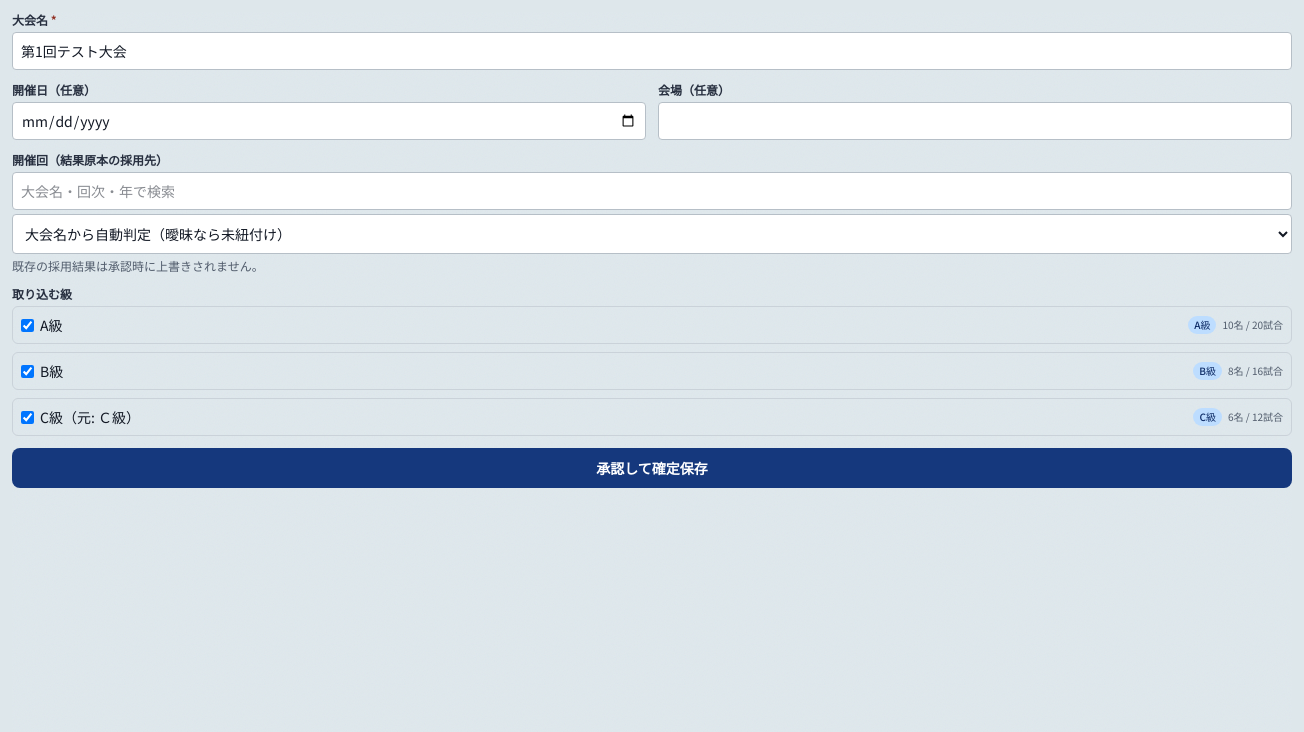
Scenario: ApproveResultDraftForm — 級選択 › 全級を外すと submit ボタンが disabled になり、強制 submit してもエラーになる
Click the checkbox labelled "A級": (28,325) [21,318,34,332]
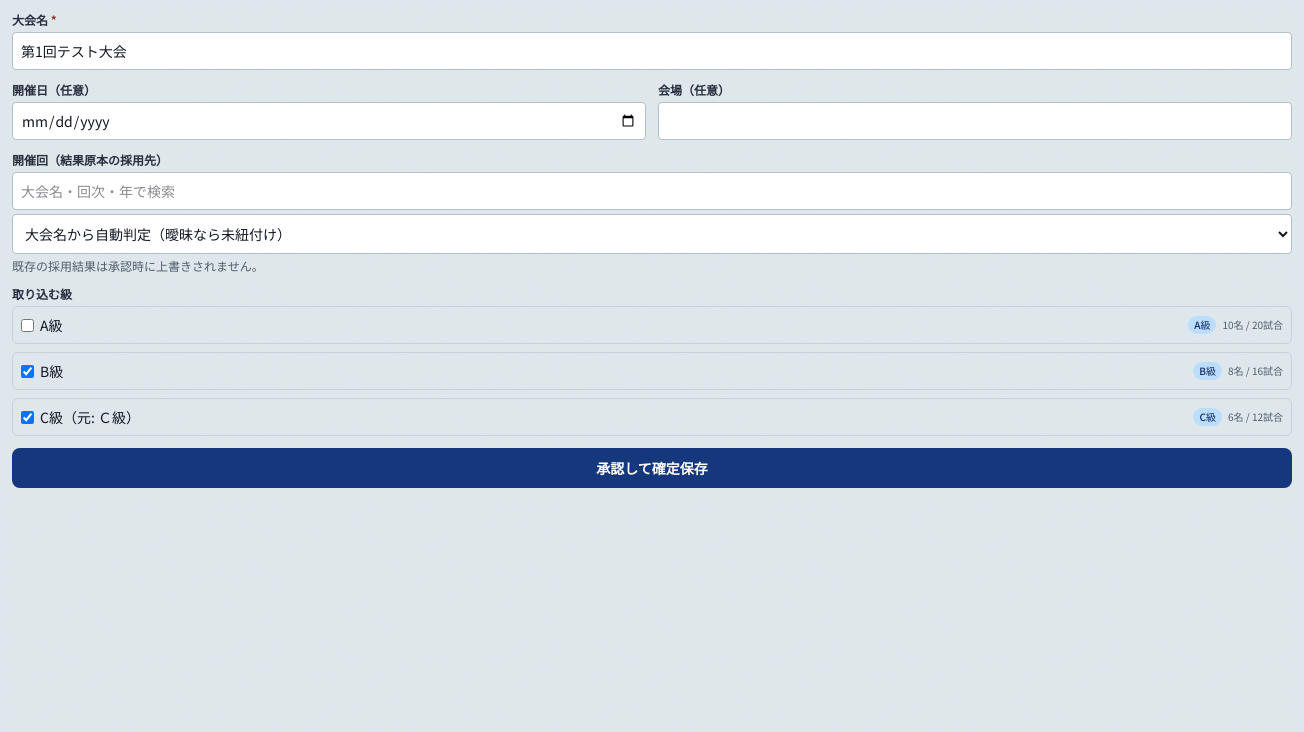
Click the checkbox labelled "B級": (28,371) [21,364,34,378]
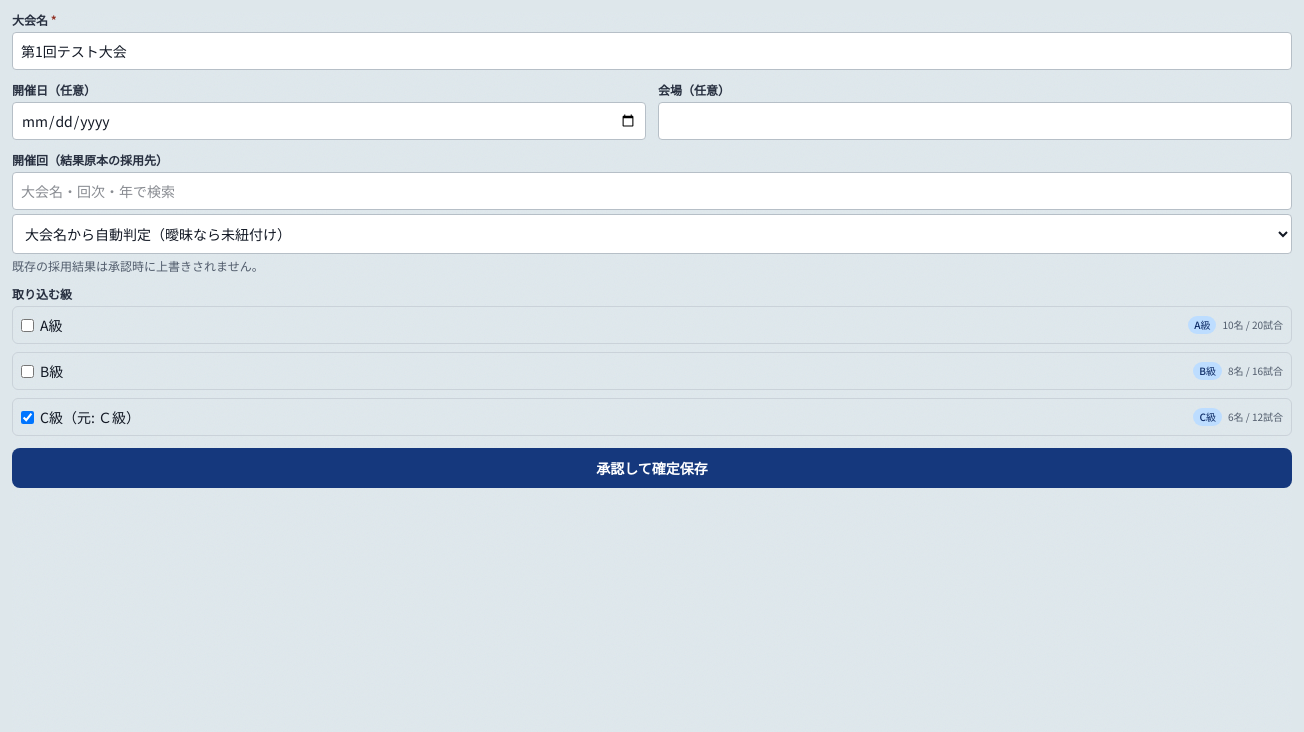
Click the checkbox labelled "C級（元: Ｃ級）": (28,417) [21,410,34,424]
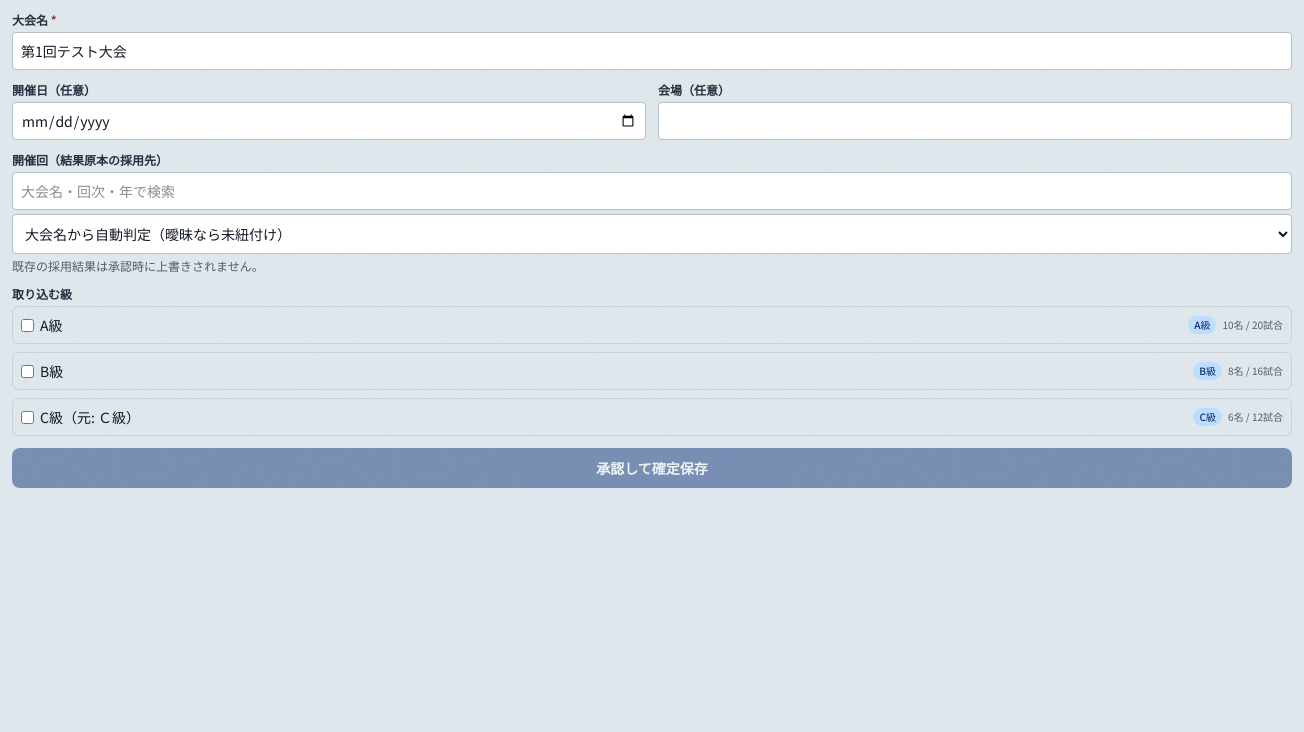
Expected: the button "承認して確定保存" is disabled, [12,448,1292,488]
Submit the form
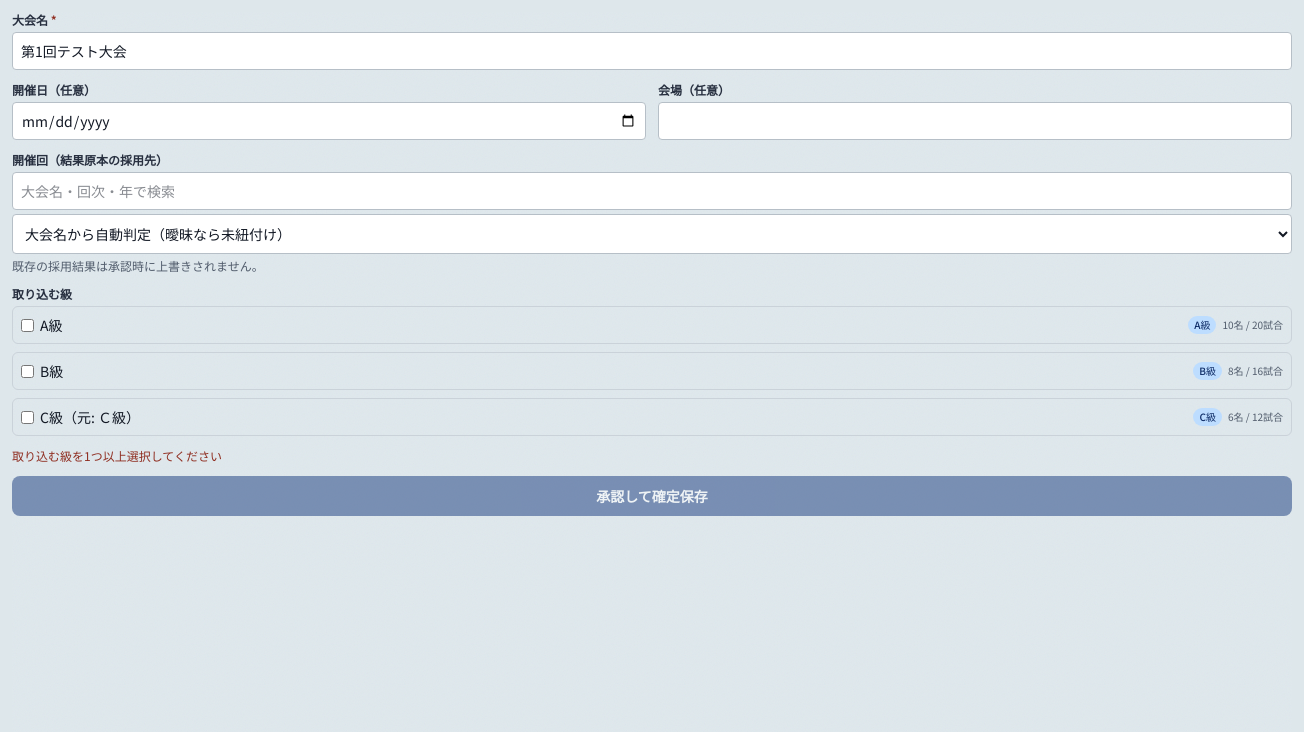
Expected: the text "取り込む級を1つ以上選択してください" is shown, [12,447,222,464]
